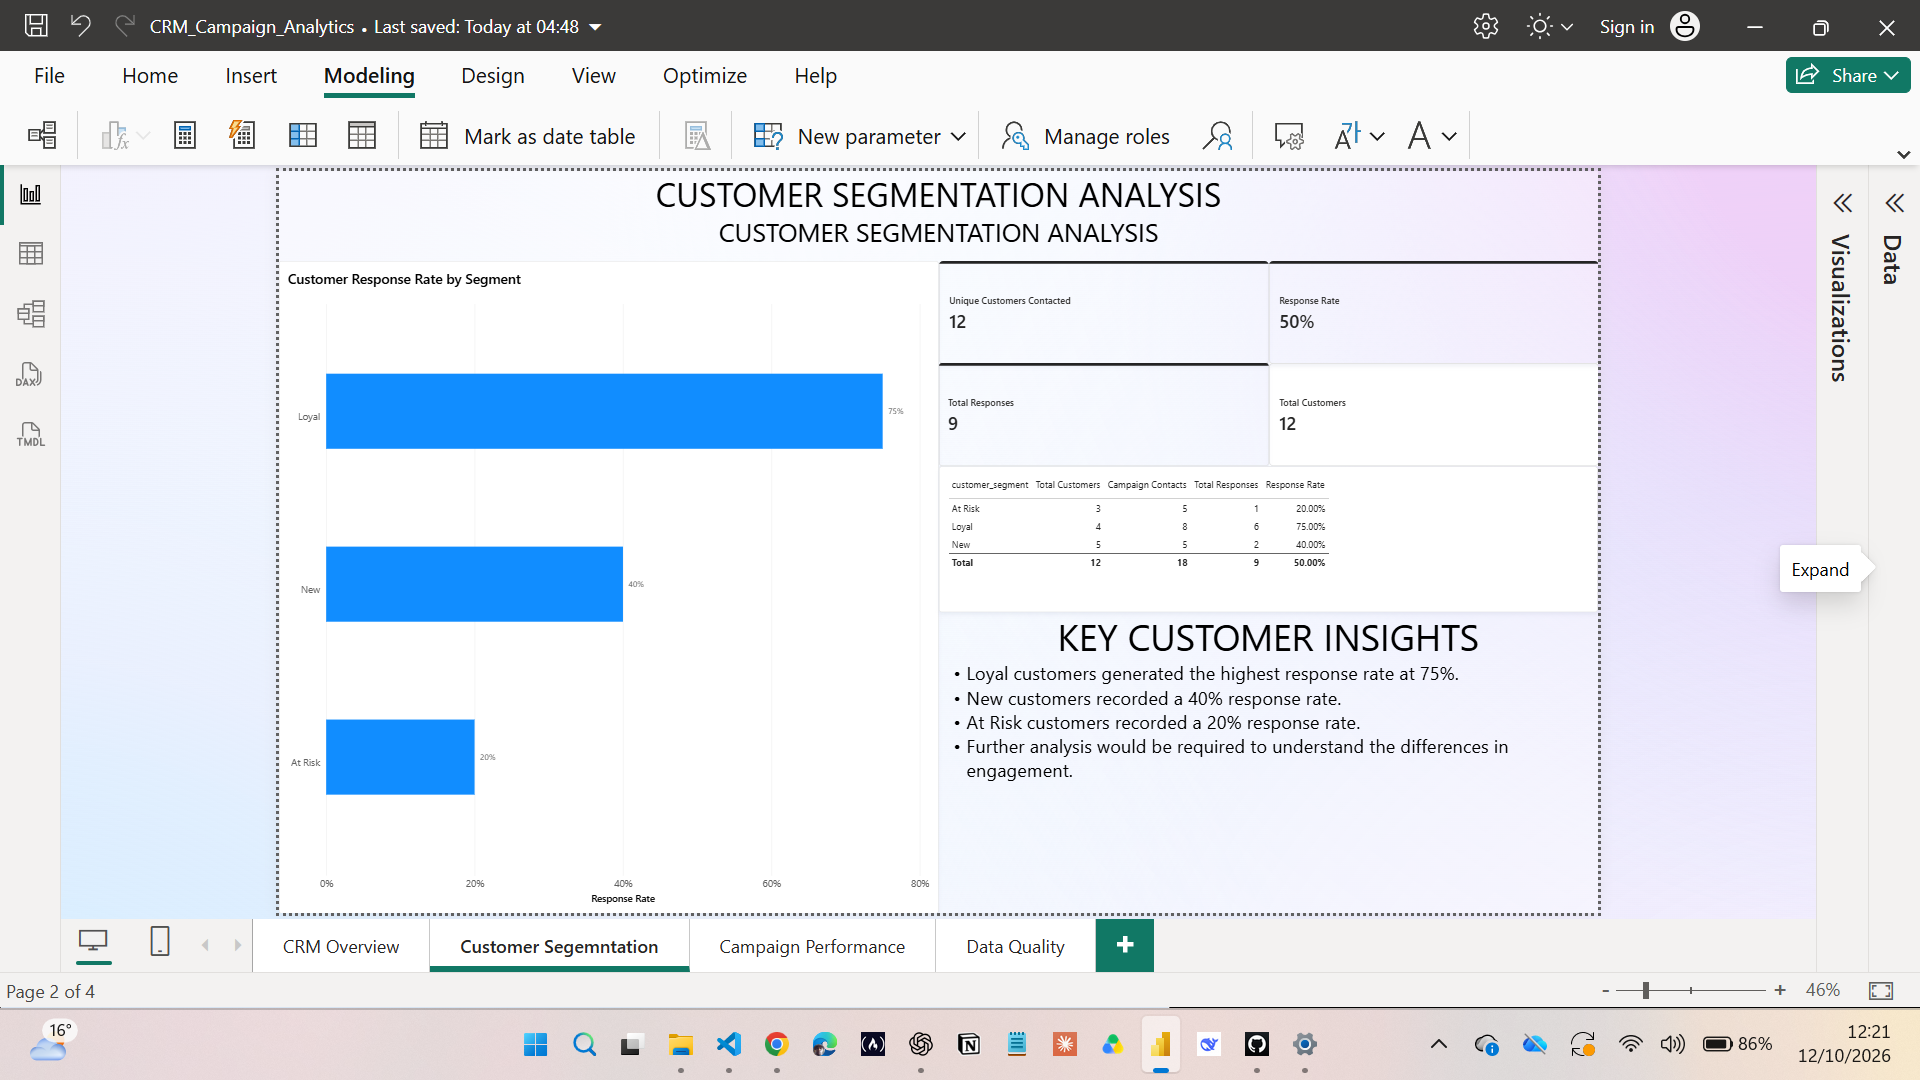

This screenshot's page, from the dashboard's own definition file:
{"tool":"powerbi","page":{"name":"Customer Segemntation","canvas":[1920,1080],"ordinal":1},"visuals":[{"type":"textbox","box":[0,0,1920,130],"z":0},{"type":"cardVisual","fields":{"Data":["customers.Total Customers"]},"box":[1440,280,480,150],"z":1000},{"type":"cardVisual","fields":{"Data":["campaign_activity.Unique Customers Contacted"]},"box":[960,130,480,150],"z":2000},{"type":"cardVisual","fields":{"Data":["campaign_activity.Total Responses"]},"box":[960,280,480,150],"z":3000},{"type":"cardVisual","fields":{"Data":["customers.Response Rate"]},"box":[1440,130,480,150],"z":4000},{"type":"clusteredBarChart","title":"Customer Response Rate by Segment","fields":{"Category":["customers.customer_segment"],"Y":["customers.Response Rate"]},"box":[0,130,960,950],"z":5000},{"type":"tableEx","fields":{"Values":["customers.customer_segment","customers.Total Customers","campaign_activity.Campaign Contacts","campaign_activity.Total Responses","customers.Response Rate"]},"box":[960.7,430.1,958.5,211.8],"z":6000},{"type":"textbox","box":[960.7,641.9,958.5,438.9],"z":6001}]}

Visuals, with their boxes on the page's 1920x1080 design canvas (x1, y1, x2, y2). These are canvas units, not pixel positions in the 1920x1080 screenshot, which may show the page scaled, cropped or inside an application window:
textbox: BBox(0, 0, 1920, 130)
cardVisual - customers.Total Customers: BBox(1440, 280, 1920, 430)
cardVisual - campaign_activity.Unique Customers Contacted: BBox(960, 130, 1440, 280)
cardVisual - campaign_activity.Total Responses: BBox(960, 280, 1440, 430)
cardVisual - customers.Response Rate: BBox(1440, 130, 1920, 280)
"Customer Response Rate by Segment" clusteredBarChart: BBox(0, 130, 960, 1080)
tableEx - customers.customer_segment x customers.Total Customers: BBox(961, 430, 1919, 642)
textbox: BBox(961, 642, 1919, 1081)
